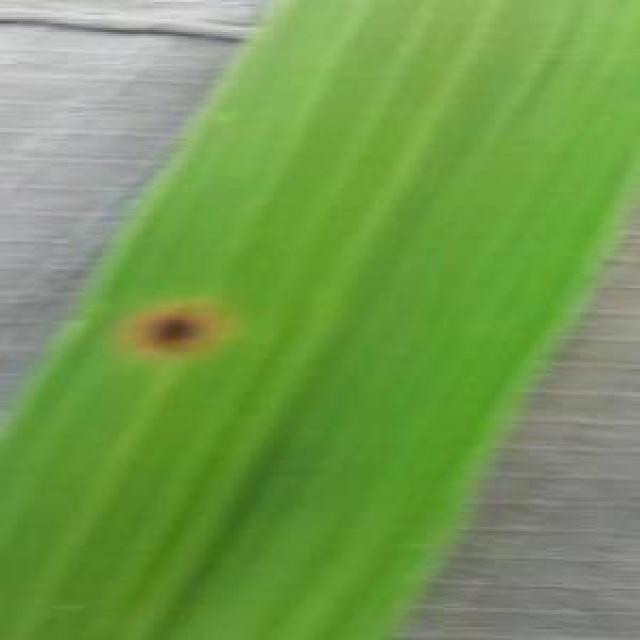Brown_Spot: (127, 292, 238, 358)
